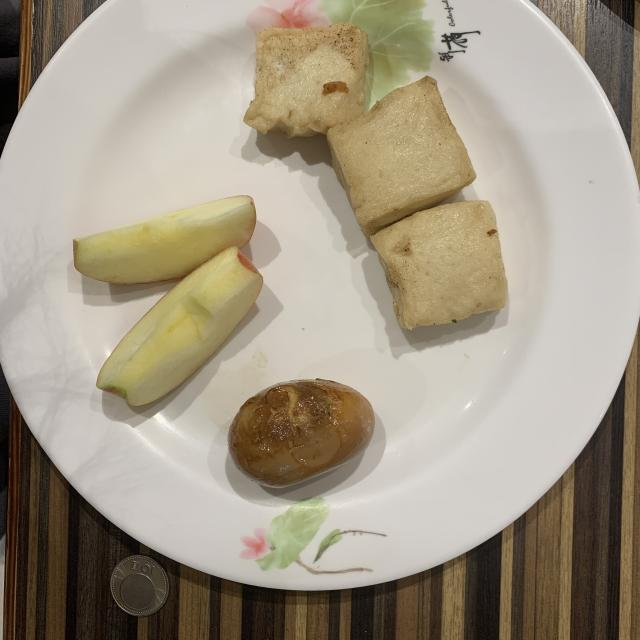apple -sliced-: (74, 196, 262, 406)
coin: (110, 555, 169, 616)
creamy tofu -without sauce-: (244, 22, 508, 329)
soy egg: (229, 379, 375, 488)
